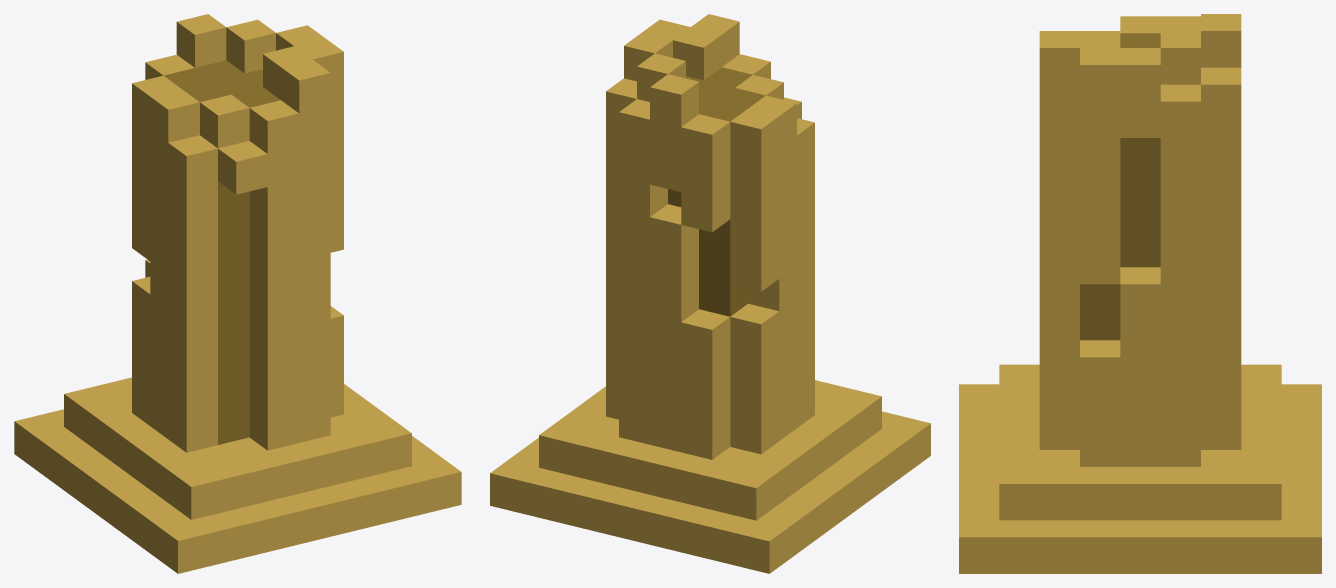
The model's file is column damaged.obj.
3 renders of one model, left to right at view 1: azimuth 30°, elevation 25°; view 2: azimuth 150°, elevation 25°; view 3: azimuth 270°, elevation 25°, orthographic. The views are drawn at different scales.
Size of the model in its own units: 0.9 by 1.3 by 0.9.
Materials: 1 (1 with a texture image).
